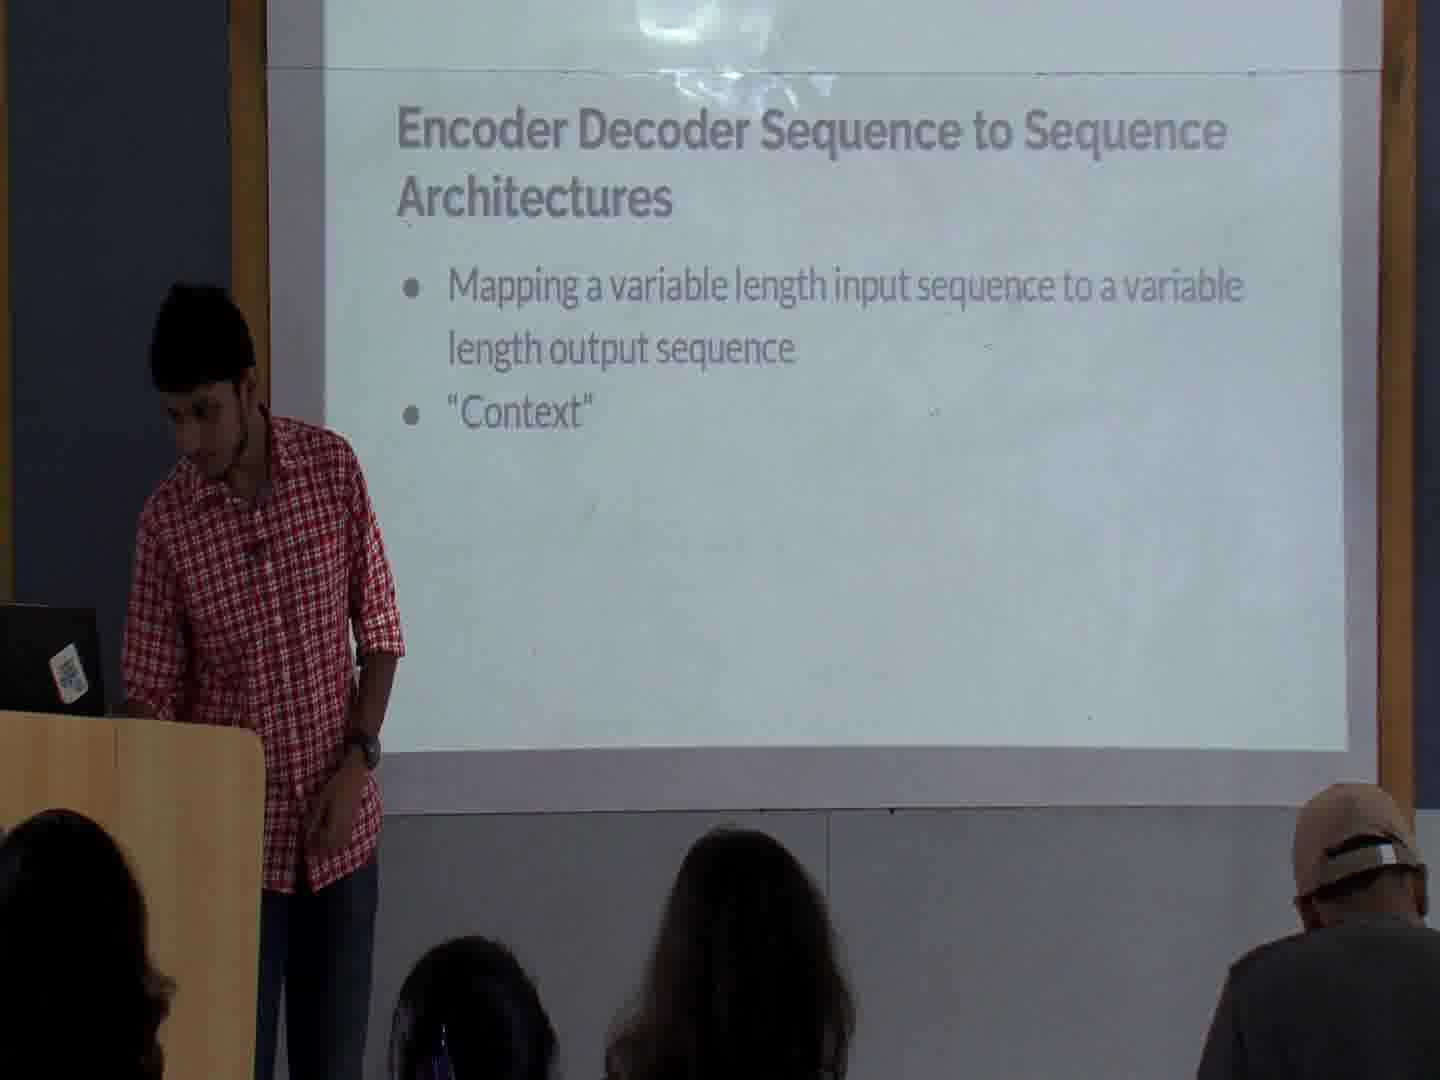slide: (323, 2, 1346, 749)
